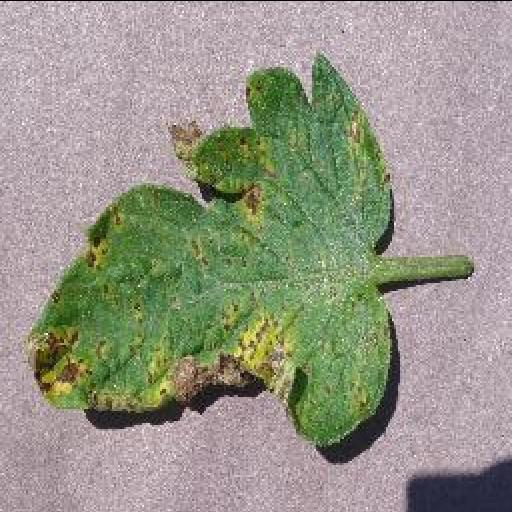disease_tomato: (24, 52, 398, 442)
